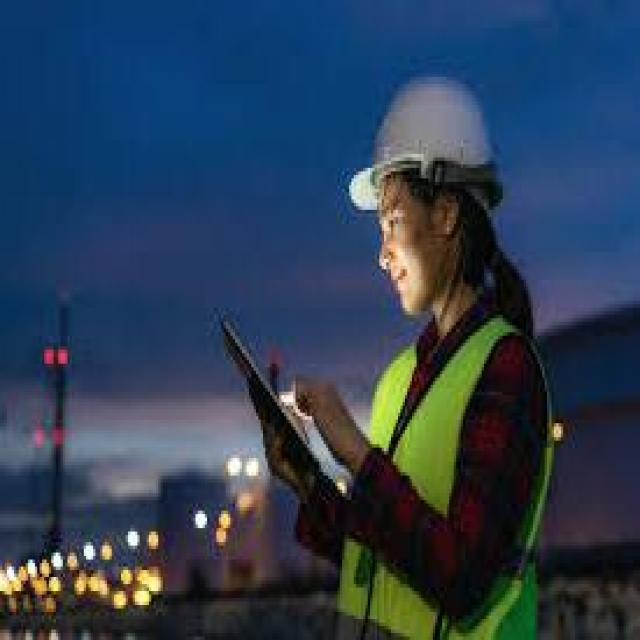Reflective-Jacket: (323, 315, 568, 640)
Safety-Helmet: (344, 66, 514, 220)
